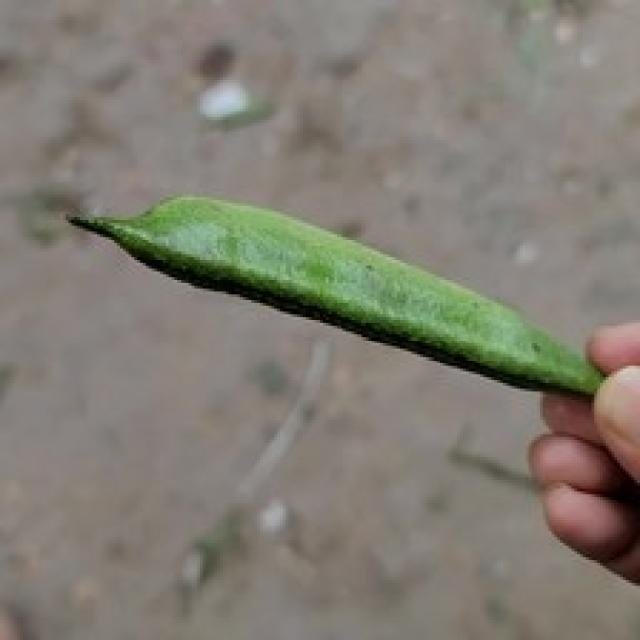Bean: (66, 189, 608, 400)
